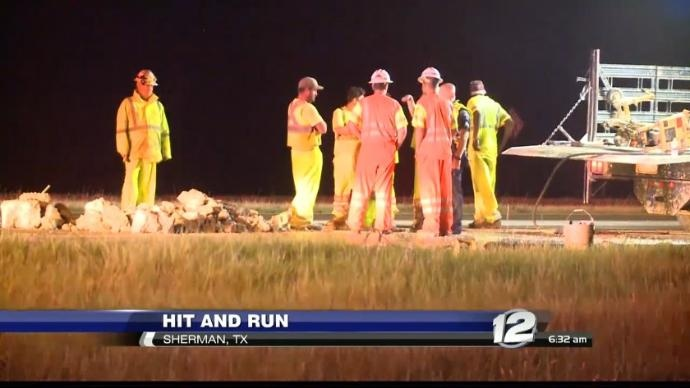none: (296, 75, 320, 102), (464, 75, 488, 100), (343, 86, 365, 108)
red: (417, 66, 442, 94), (367, 67, 391, 95)
yellow: (132, 68, 160, 100)
